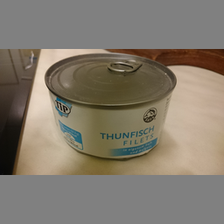fish: (45, 52, 178, 160)
